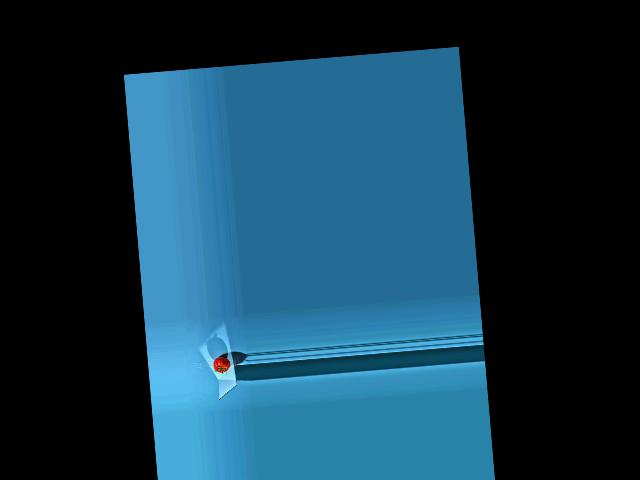tomato: (213, 356, 231, 373)
